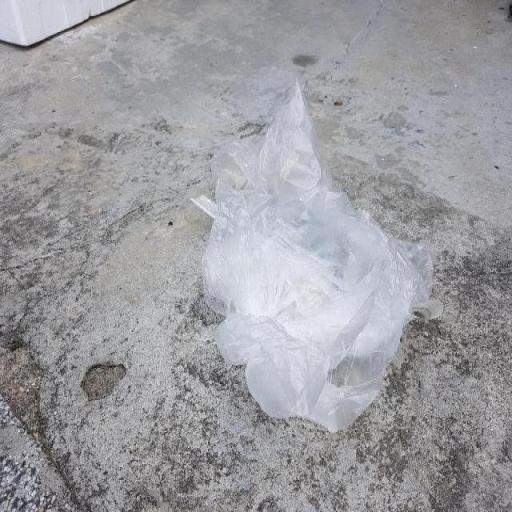plastic-bag: (198, 73, 437, 432)
